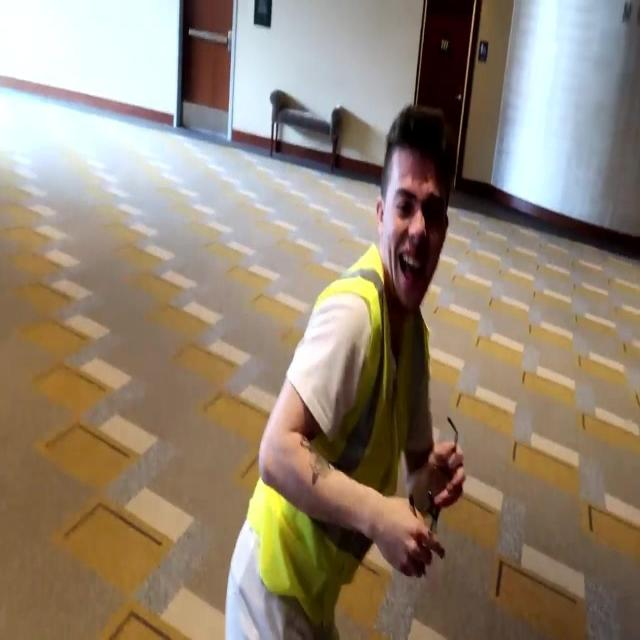Vest: (247, 231, 431, 631)
